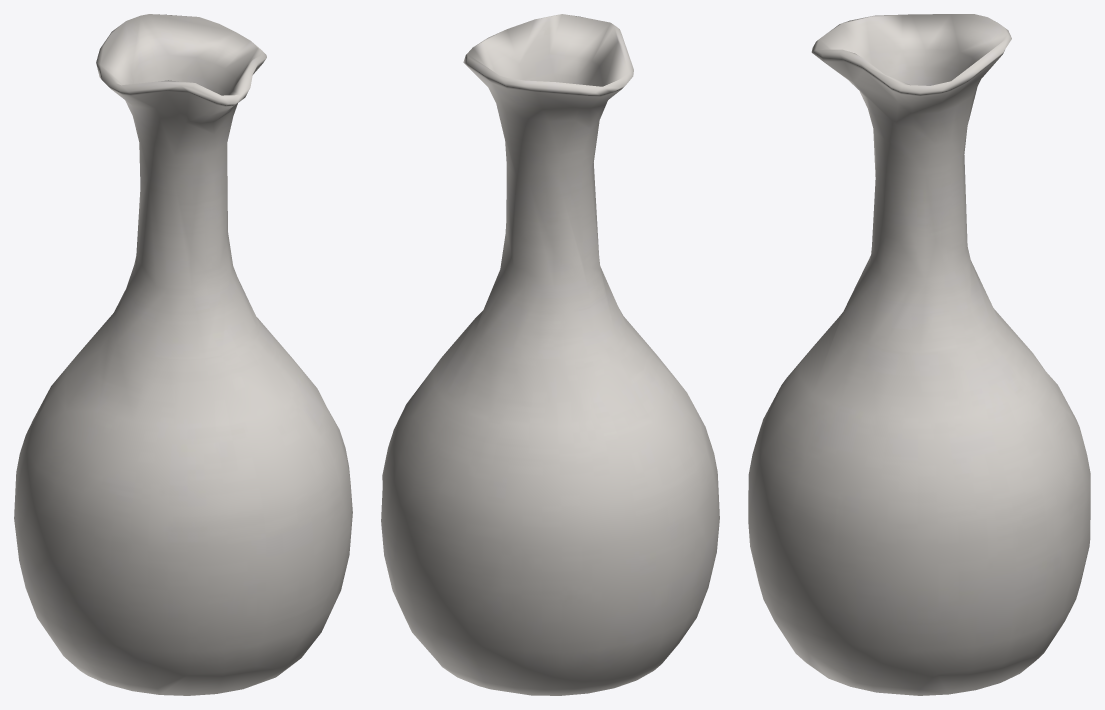
File: ceramic_vase_01.glb
3 renders of one model, left to right at view 1: azimuth 30°, elevation 25°; view 2: azimuth 150°, elevation 25°; view 3: azimuth 270°, elevation 25°, orthographic.
Parts seen in each view (by area): view 1: ceramic_vase_01; view 2: ceramic_vase_01; view 3: ceramic_vase_01.
Boxes of the visible parts, left/top/right/bottom form: ceramic_vase_01: left=14, top=14, right=352, bottom=695; ceramic_vase_01: left=381, top=14, right=719, bottom=695; ceramic_vase_01: left=748, top=14, right=1090, bottom=695.
Size of the model in its own units: 0.2023 by 0.4002 by 0.2018.
1 material, 1 textured.
